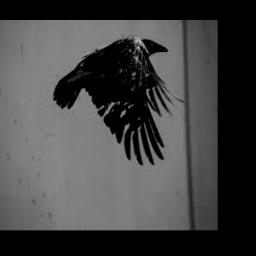Crow: (53, 37, 185, 165)
